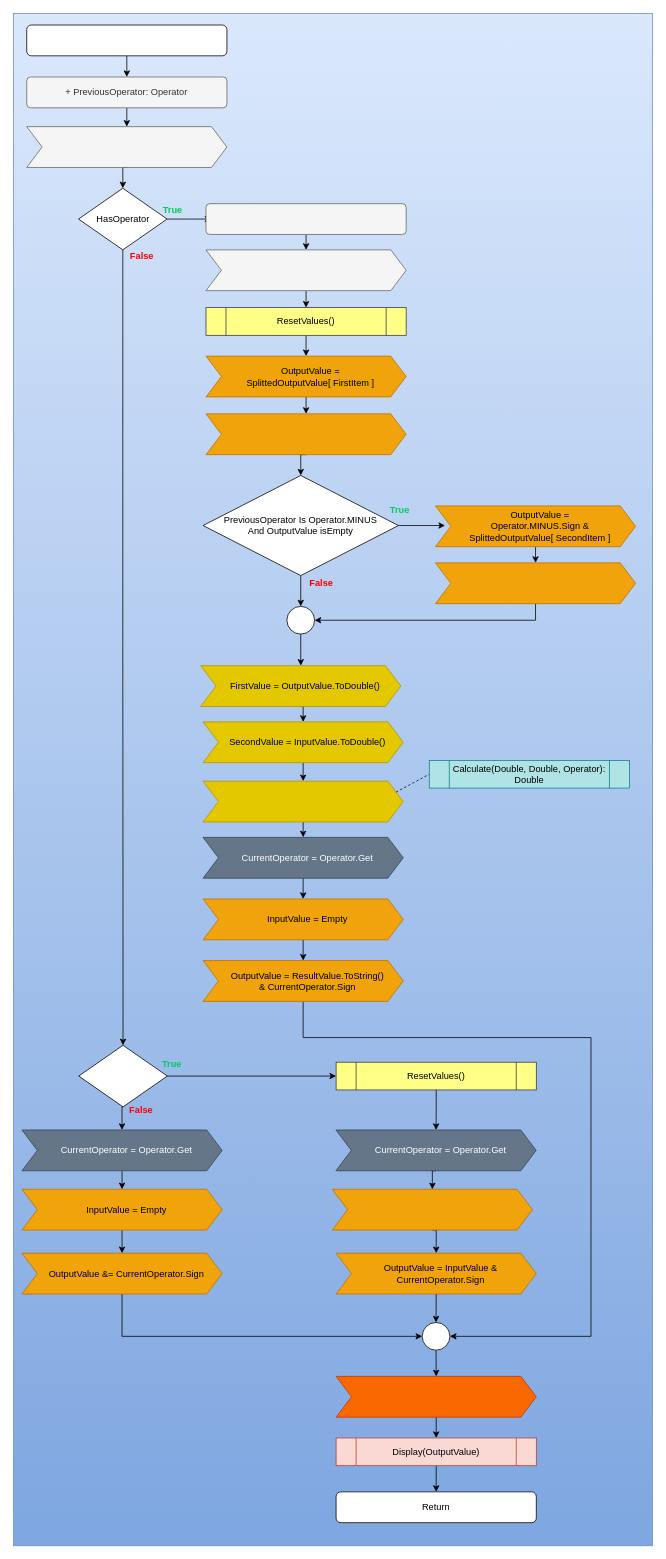
The diagram is 666 pixels wide and 1559 high, and some of its shapes have lost their labels. Each missing label, with the centre of its shape:
+ SplittedOutputValue: String: [305,218]
HasOperator = True: [435,1396]
InputValue = "0": [431,1209]
InputValue = SplittedOutputValue[ SecondItem ]: [305,434]
InputValue = SplittedOutputValue[ ThirdItem ]: [535,583]
OperatorInput(Operator): [126,40]
OutputValue IsEmpty: [122,1076]
PreviousOperator = CurrentOperator: [126,146]
ResultValue = Calculate(FirstValue, SecondValue, PreviousOperator): [302,801]
SplittedOutputValue = OutputValue.Split(PreviousOperator.Sign): [305,270]
